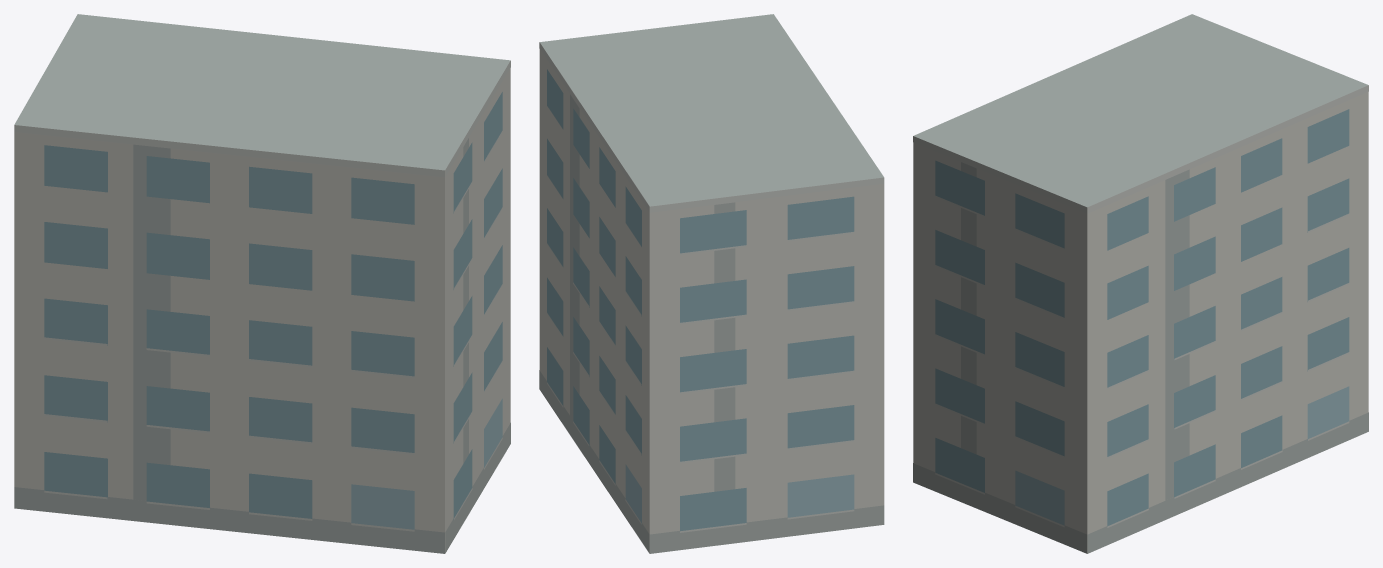
File: survey-upis-32842747.glb
The picture shows the model from 3 angles, left to right: view 1: azimuth 30°, elevation 25°; view 2: azimuth 150°, elevation 25°; view 3: azimuth 270°, elevation 25°; orthographic projection. The views are drawn at different scales.
Parts seen in each view (by area): view 1: survey-upis-32842747.tmp; view 2: survey-upis-32842747.tmp; view 3: survey-upis-32842747.tmp.
Part boxes in pixels (box(x1,y1,x2,y2)): survey-upis-32842747.tmp: box(14, 14, 510, 553); survey-upis-32842747.tmp: box(539, 14, 884, 553); survey-upis-32842747.tmp: box(913, 14, 1368, 553).
Size of the model in its own units: 15.87 by 13.25 by 15.8.
